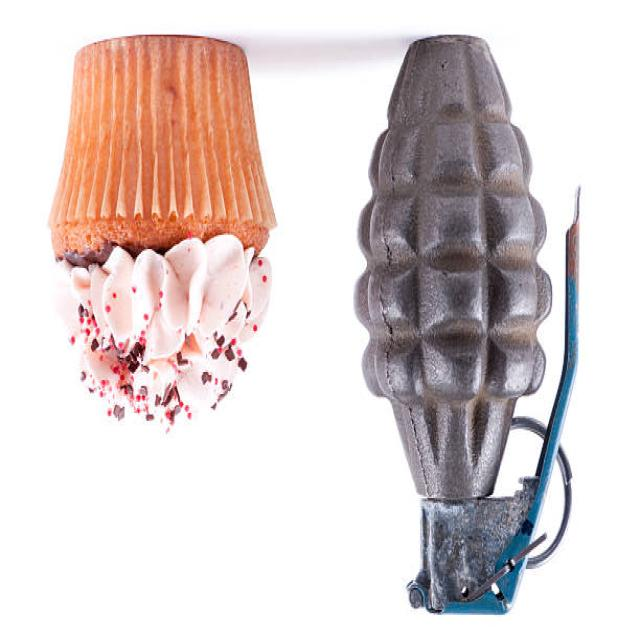grenade: (347, 34, 593, 631)
